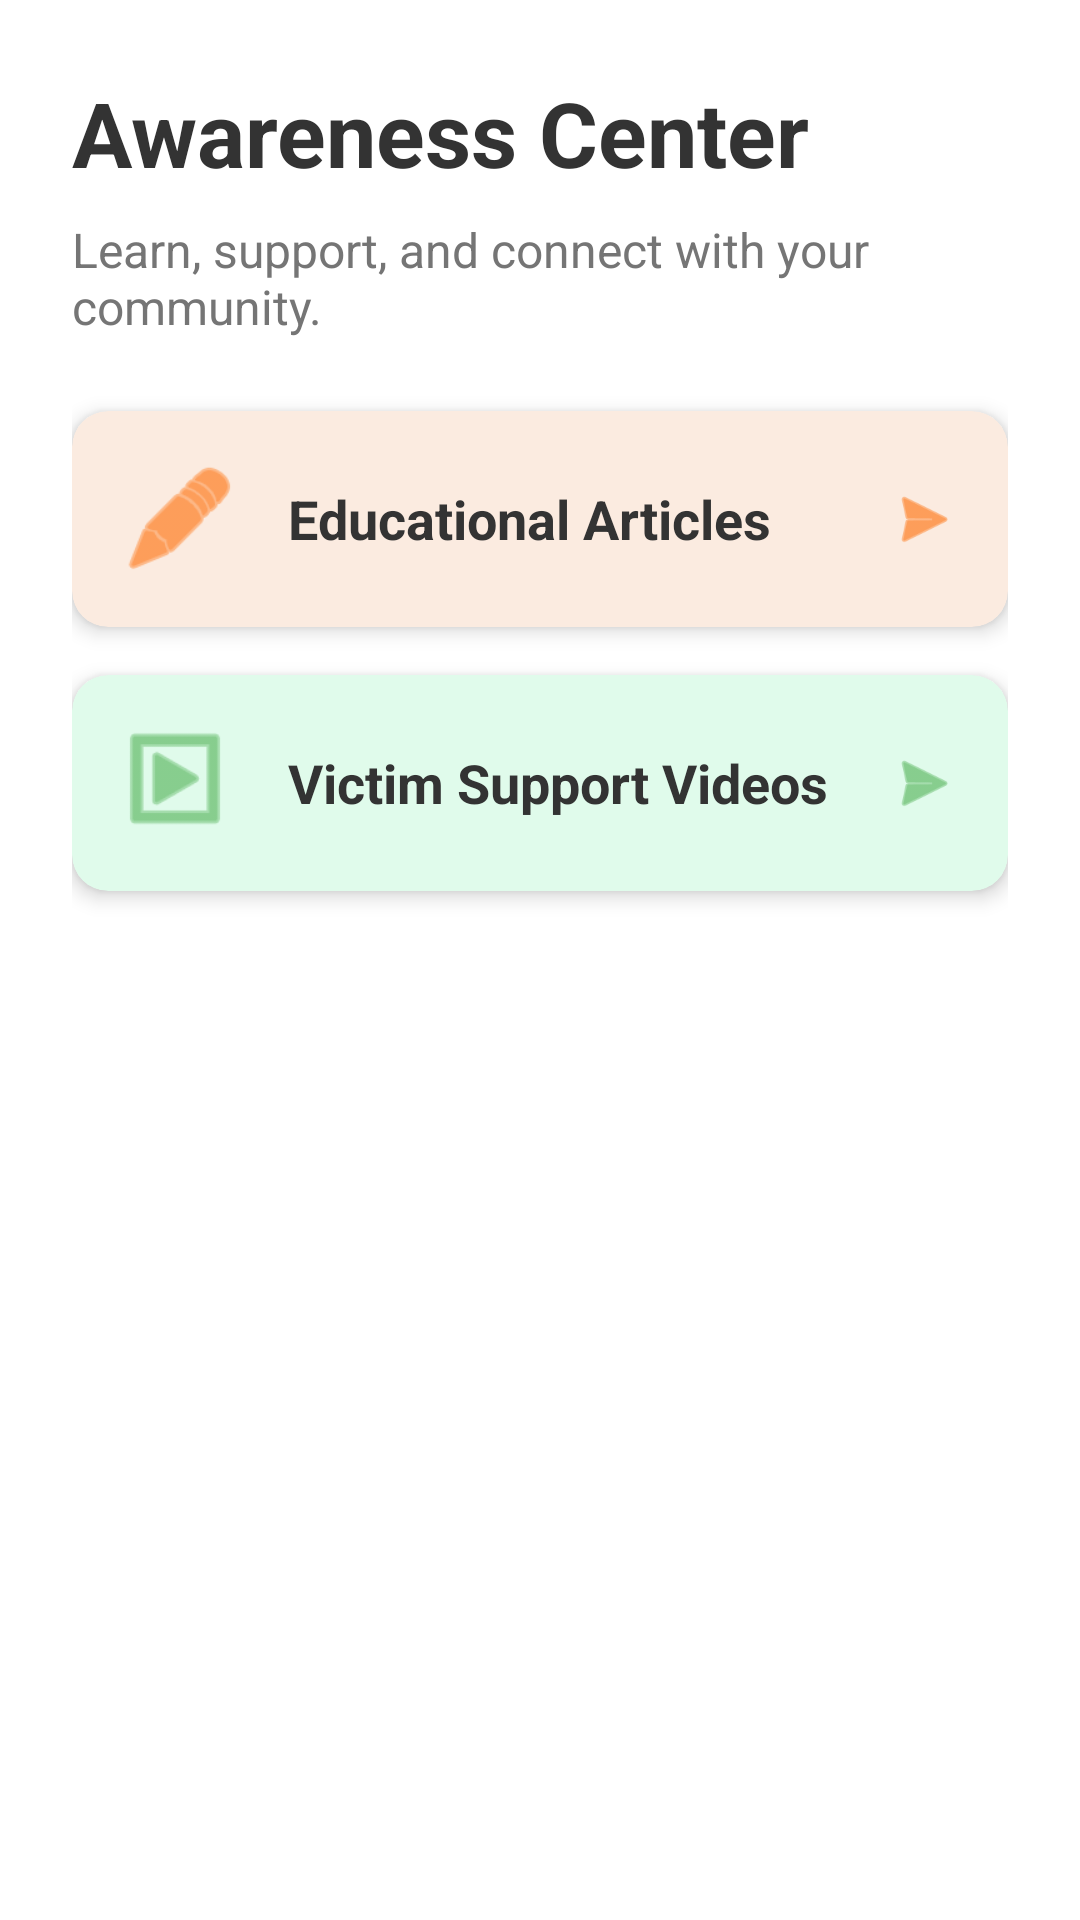

Point at icon controls on the screen. Image size 1080px x 1920px, points as (x=x, y=y).
Go: (x=925, y=519), (x=925, y=783)
